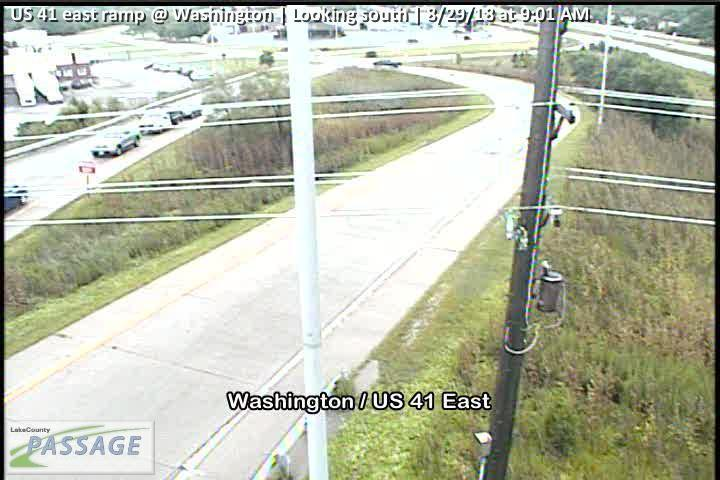Sedan: (88, 126, 142, 159), (140, 112, 170, 133), (183, 106, 204, 119), (167, 109, 184, 124)
